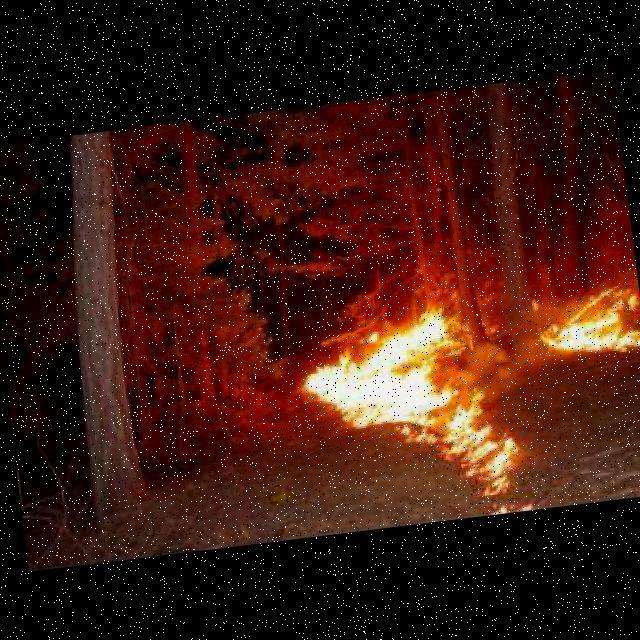Fire: (299, 275, 640, 513)
